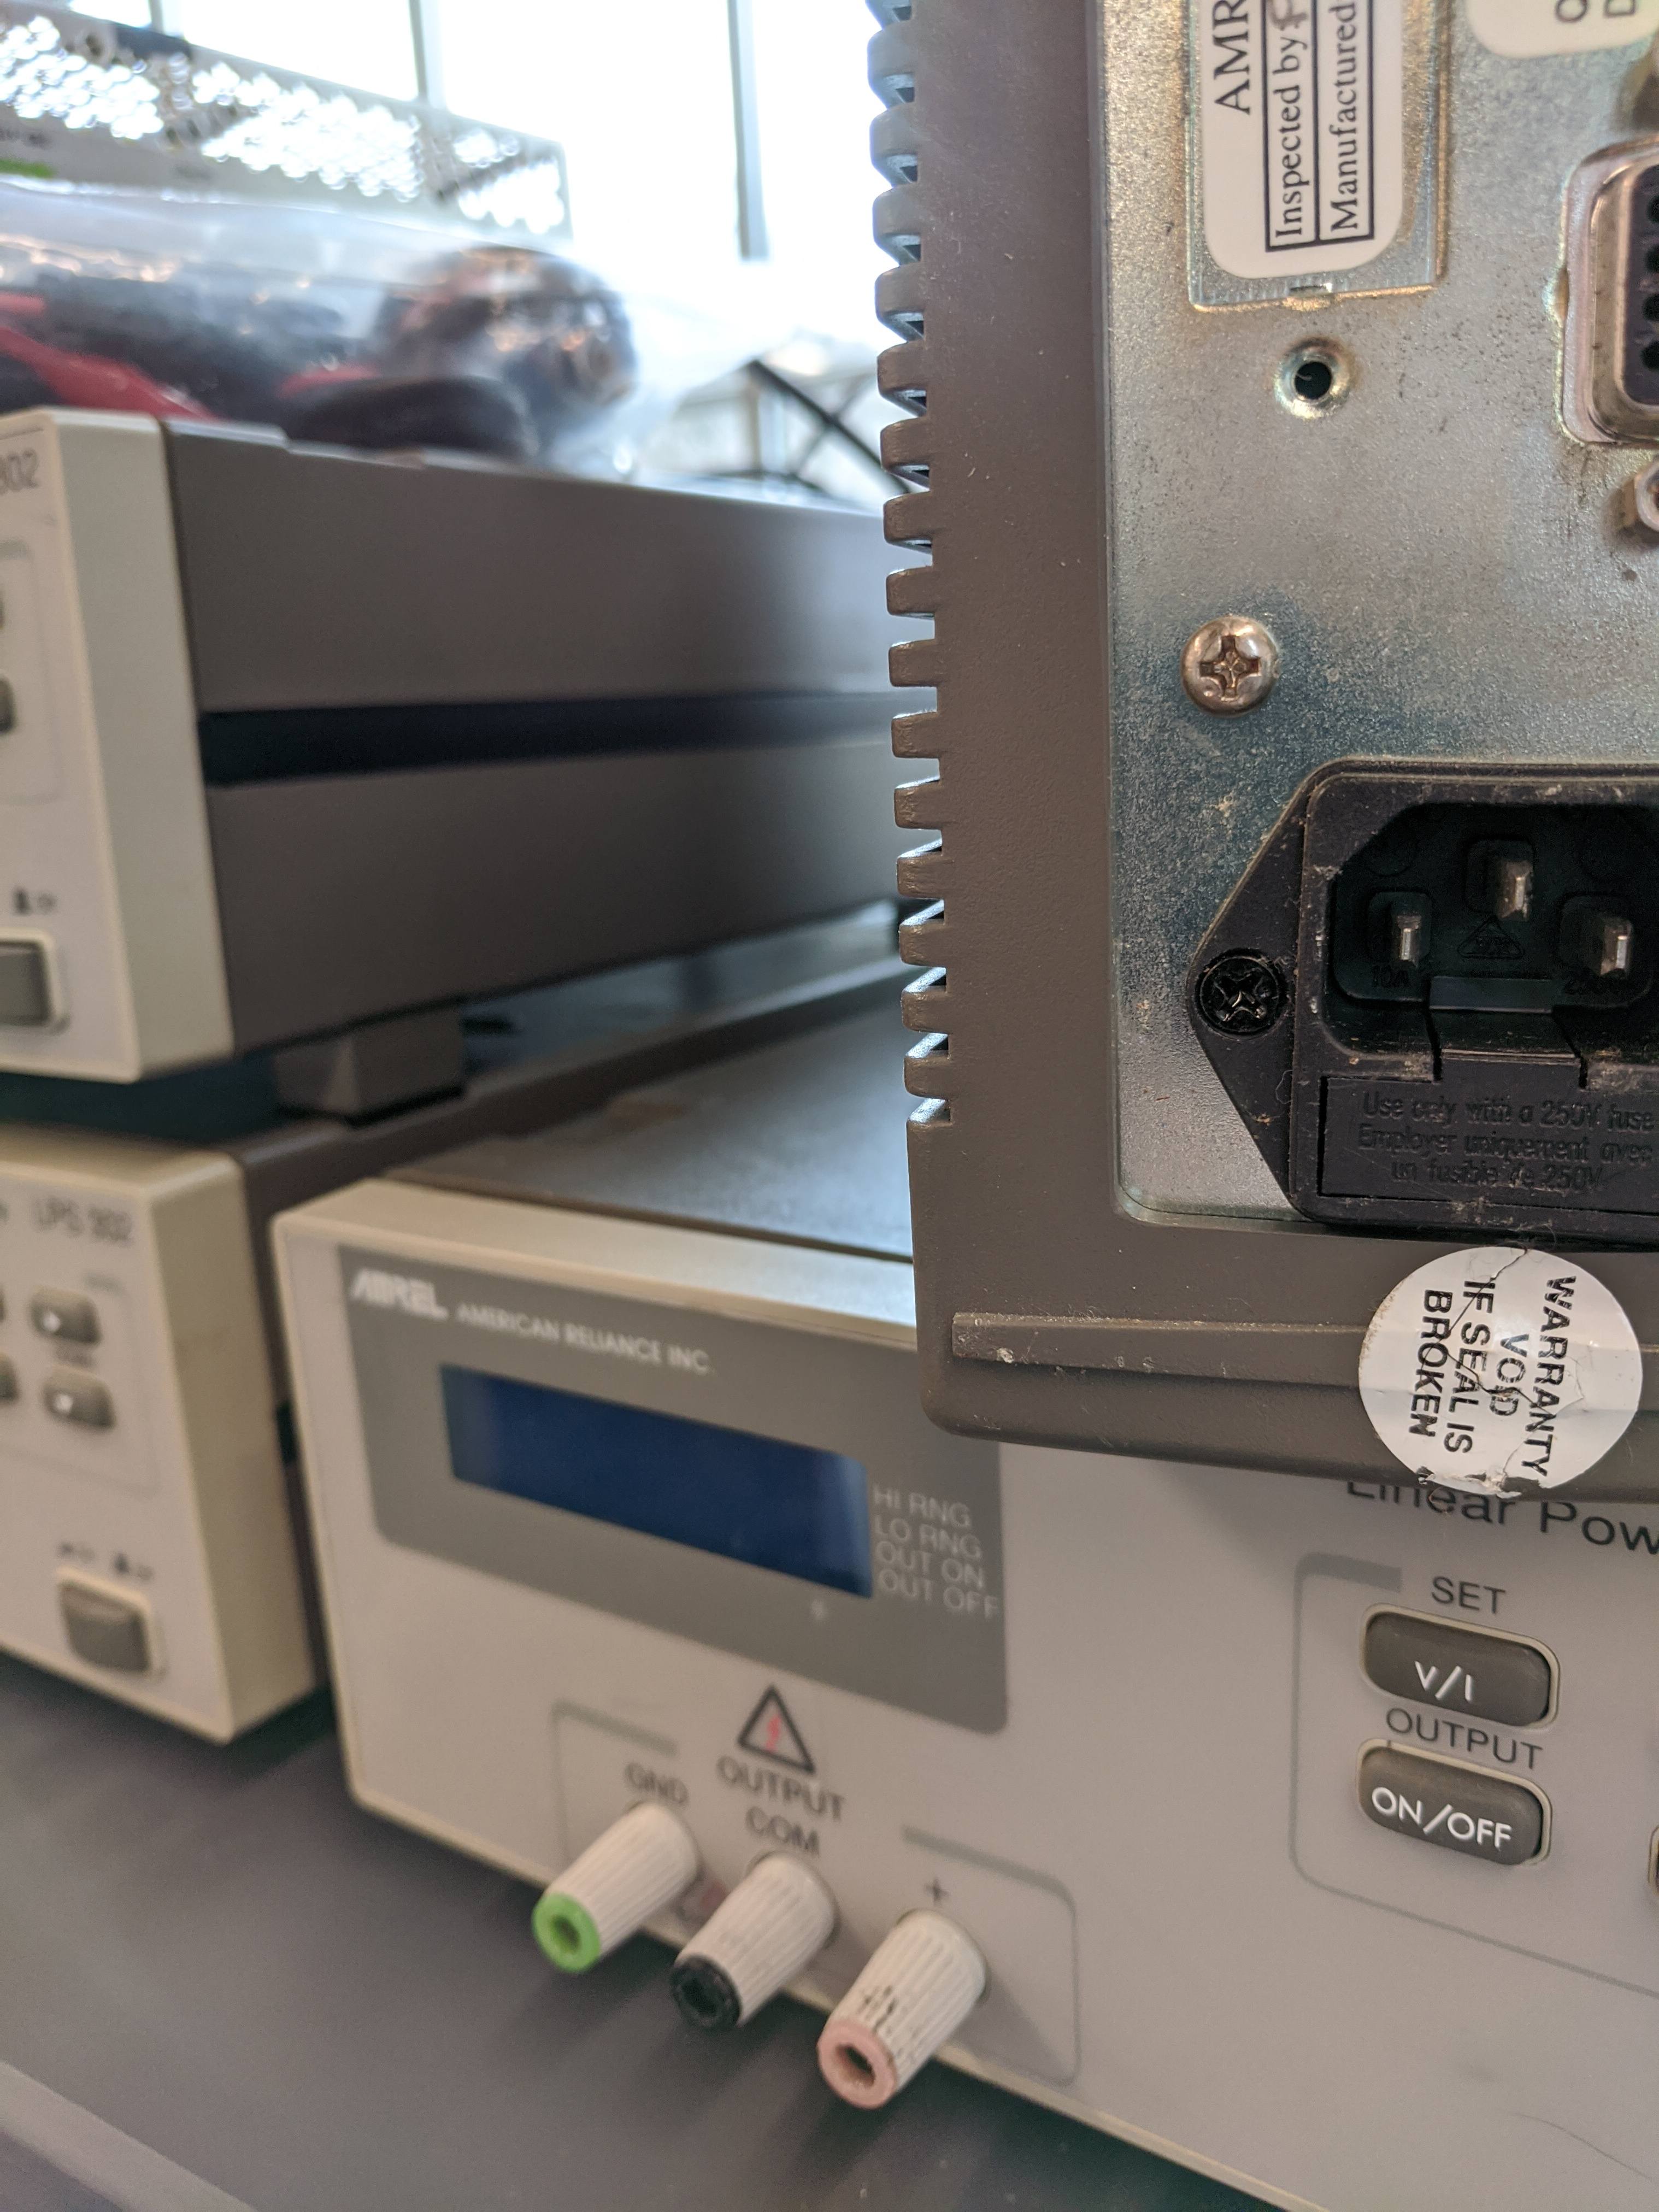cross_recessed_screw: (1173, 594, 1279, 718)
